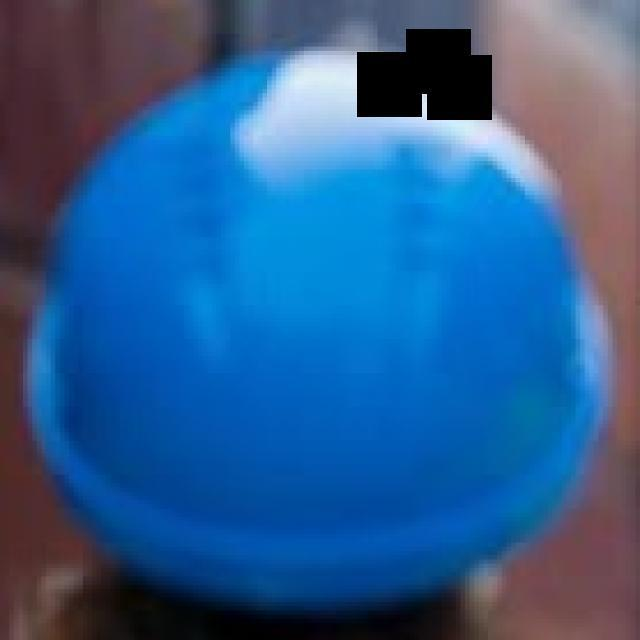blue helmet: (1, 62, 640, 602)
